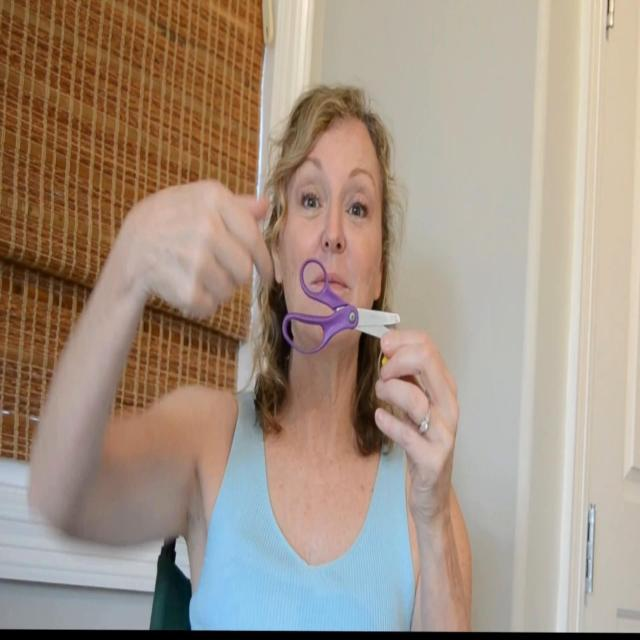scissor: (282, 258, 400, 356)
